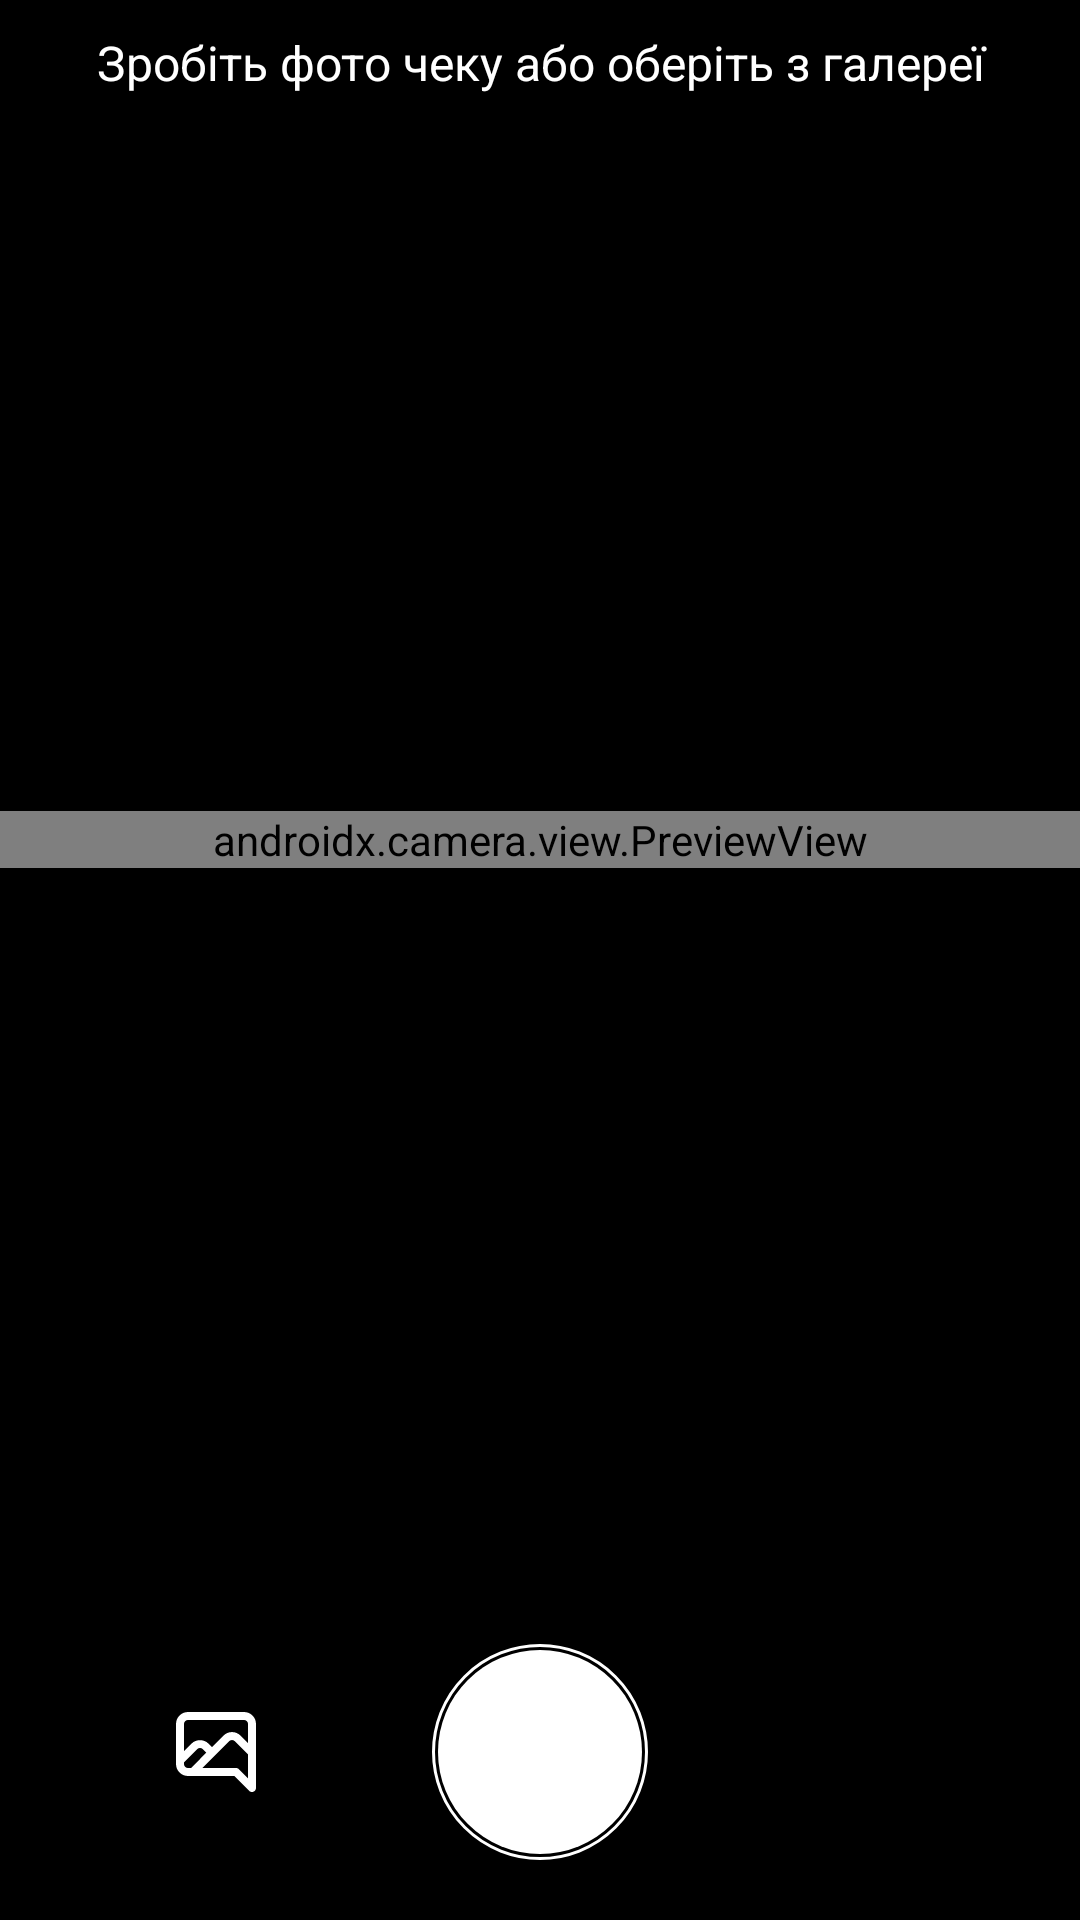

Icon bounding boxes for this 1080x1920 phone screenshot, format (x1, y1, x2, y2):
circle for camera: (432, 1644, 648, 1860)
gallery: (176, 1712, 256, 1792)
